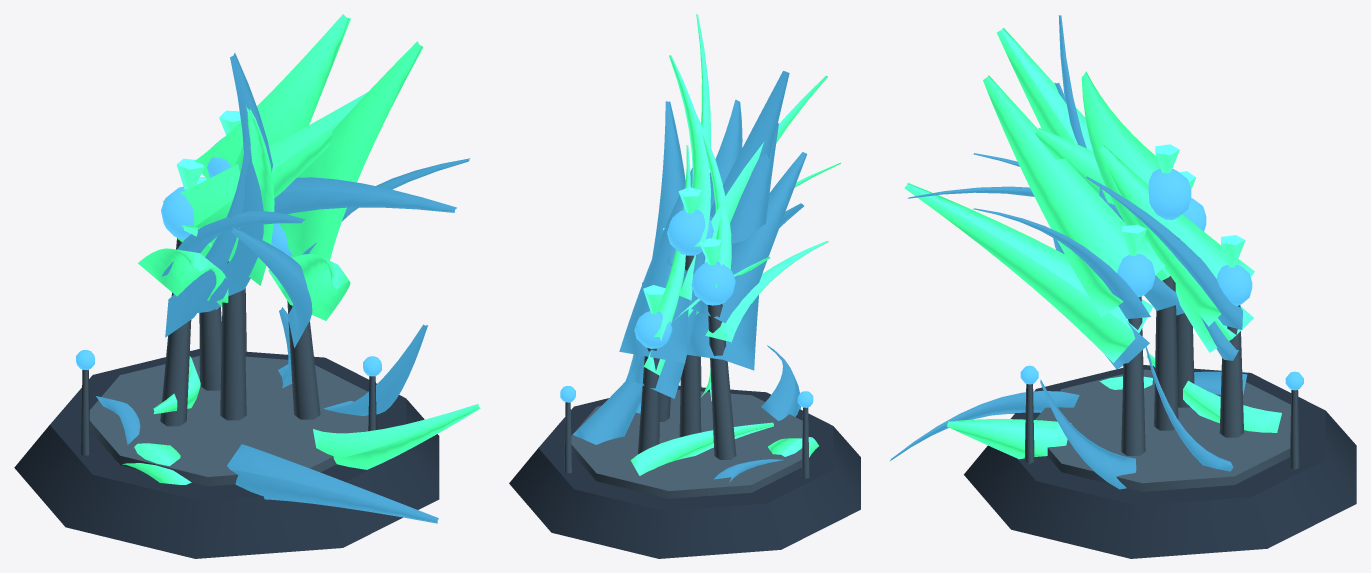
The model's file is alien_flora.glb.
3 views of the same model, side by side, from view 1: azimuth 30°, elevation 25°; view 2: azimuth 150°, elevation 25°; view 3: azimuth 270°, elevation 25° (orthographic). The views are drawn at different scales.
Visible parts, largest first — view 1: Soil, Stem1, AlienFlora, Stem3, Stem2, Stem4; view 2: Soil, Stem3, Stem1, Stem4, AlienFlora, Stem2; view 3: Soil, Stem2, Stem1, AlienFlora, Stem4, Stem3.
Boxes of the visible parts, <box> form: Soil: <box>14,349,439,558</box>; Stem1: <box>194,14,456,420</box>; AlienFlora: <box>76,288,480,523</box>; Stem3: <box>138,92,367,426</box>; Stem2: <box>232,41,470,419</box>; Stem4: <box>182,177,222,390</box>; Soil: <box>509,385,860,558</box>; Stem3: <box>686,112,828,459</box>; Stem1: <box>665,55,827,437</box>; Stem4: <box>619,145,770,454</box>; AlienFlora: <box>560,282,818,482</box>; Stem2: <box>652,14,840,421</box>; Soil: <box>964,365,1356,558</box>; Stem2: <box>904,75,1165,455</box>; Stem1: <box>907,15,1191,430</box>; AlienFlora: <box>890,347,1303,489</box>; Stem4: <box>1085,145,1254,437</box>; Stem3: <box>973,82,1206,407</box>.
Bounding box in the file's own units: 1.3 × 1.59 × 1.53.
